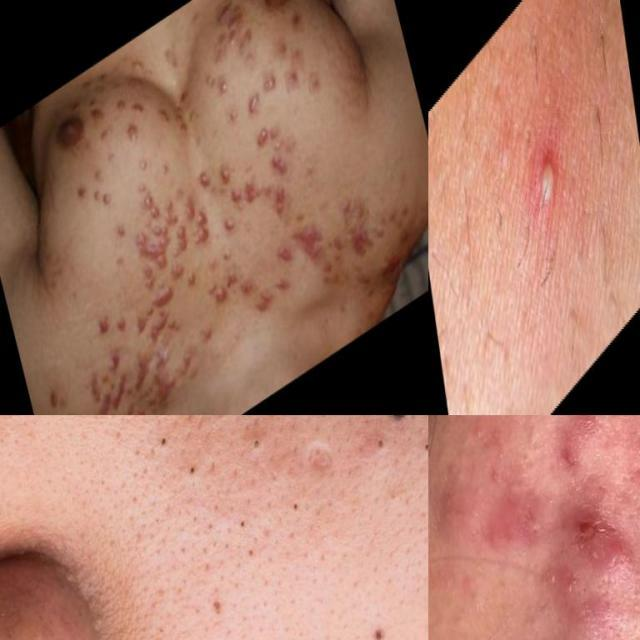Pimples: (284, 172, 380, 305), (124, 198, 194, 294), (524, 114, 568, 236), (571, 496, 628, 588), (142, 340, 204, 413), (179, 232, 243, 298), (239, 156, 291, 234), (84, 342, 132, 415), (206, 152, 248, 234), (88, 294, 135, 356), (160, 83, 202, 145), (251, 263, 295, 320), (116, 93, 156, 155), (180, 186, 213, 260), (249, 112, 289, 172), (130, 418, 179, 466), (352, 420, 396, 472), (302, 435, 341, 493), (203, 264, 241, 316), (242, 67, 280, 118), (274, 482, 316, 528), (144, 306, 182, 354), (209, 0, 249, 43), (233, 423, 270, 469), (168, 454, 207, 494), (90, 393, 150, 415), (271, 228, 299, 273), (148, 278, 180, 317), (408, 421, 428, 473), (538, 623, 597, 640), (44, 378, 68, 416), (90, 179, 114, 213), (212, 68, 236, 102), (222, 101, 242, 134), (284, 415, 318, 429), (200, 415, 233, 429)
